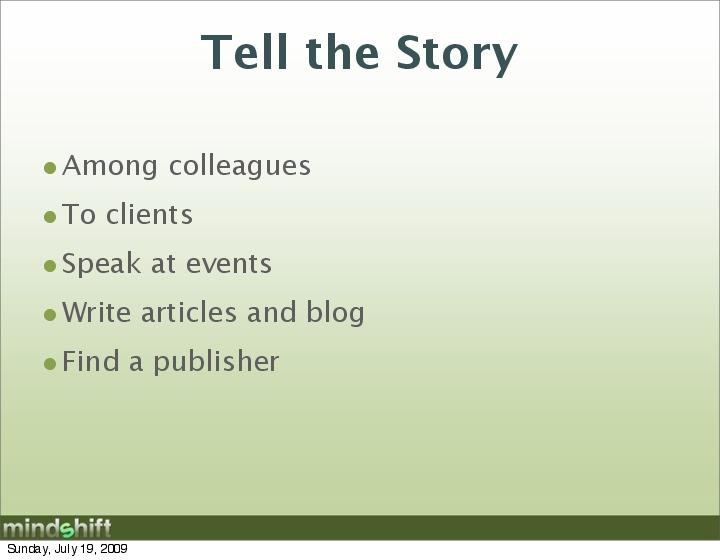paragraph: (23, 131, 481, 411)
title: (194, 11, 536, 90)
